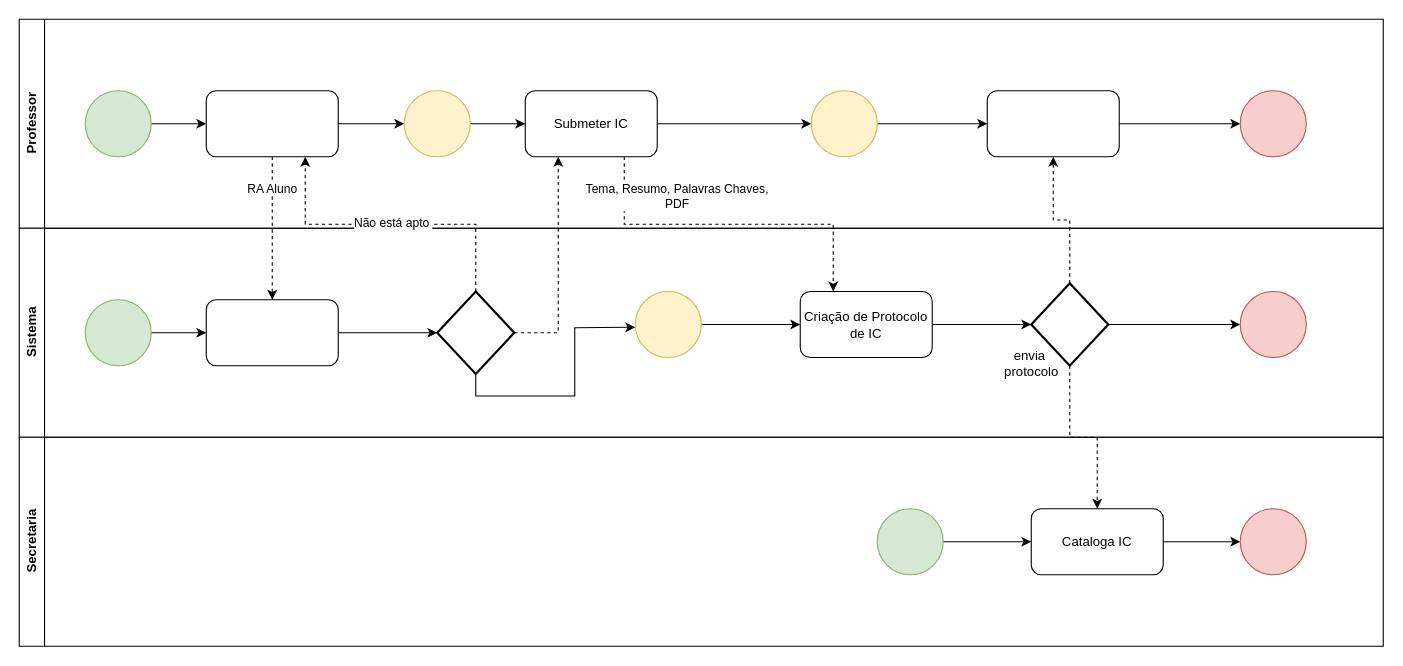
The diagram is 1403 pixels wide and 666 high, and some of its shapes have lost their labels. The shapes that lost their labels are listed below. From the top down, each one's box as (x1, y1, x2, y2) in pixels, then its label:
(205, 90, 338, 157): Submeter Aluno
(986, 90, 1119, 157): Inicia IC
(205, 299, 338, 366): Busca Informação do Aluno
